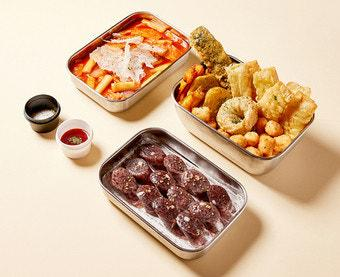Lunch Box: (172, 27, 316, 174), (98, 128, 246, 258), (67, 11, 190, 111), (56, 119, 93, 158), (24, 94, 60, 132)
